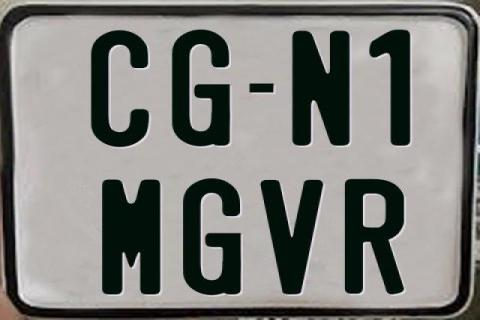0: (368, 28, 409, 149)
C: (91, 29, 153, 149)
G: (181, 177, 245, 293), (169, 28, 227, 150)
M: (101, 177, 160, 293)
N: (292, 30, 353, 148)
R: (344, 179, 405, 295)
V: (258, 180, 324, 299)
